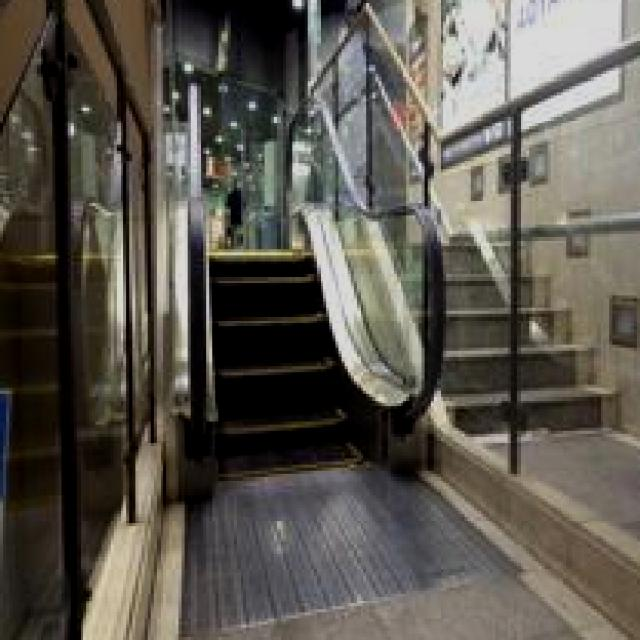upstair: (195, 244, 349, 456)
